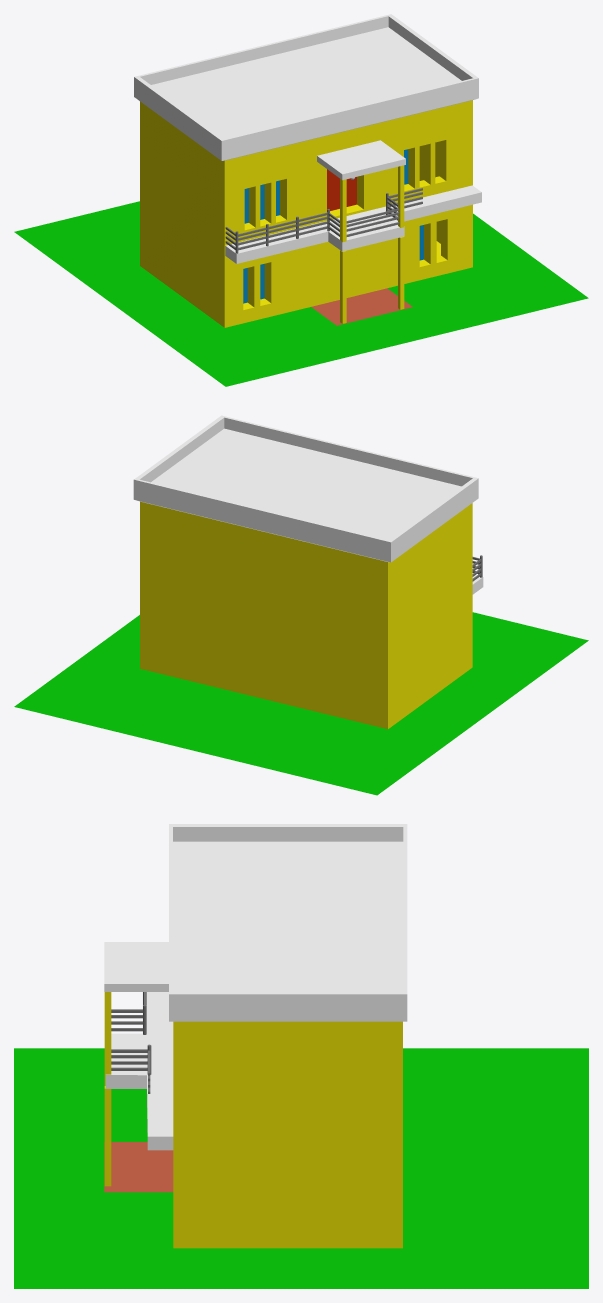
Rendered from house2_yellow.obj.
3 renders of one model, top to bottom at view 1: azimuth 30°, elevation 25°; view 2: azimuth 150°, elevation 25°; view 3: azimuth 270°, elevation 25°, orthographic. The views are drawn at different scales.
Parts seen in each view (by area): view 1: Cube.166_Cube.256, Plane.033_Plane.034, Cube.104_Cube.195, Cube.154_Cube.244, Cube.102_Cube.193, Cube.165_Cube.255, Cube.100_Cube.191, Cube.101_Cube.192; view 2: Cube.166_Cube.256, Plane.033_Plane.034; view 3: Cube.166_Cube.256, Plane.033_Plane.034, Cube.104_Cube.195, Cube.154_Cube.244, Cube.101_Cube.192, Cube.102_Cube.193.
Part boxes in pixels (x1,y1,x2,y2): Cube.166_Cube.256: [134, 14, 478, 327]; Plane.033_Plane.034: [14, 201, 588, 386]; Cube.104_Cube.195: [225, 185, 481, 263]; Cube.154_Cube.244: [311, 288, 412, 325]; Cube.102_Cube.193: [340, 165, 404, 242]; Cube.165_Cube.255: [327, 169, 356, 211]; Cube.100_Cube.191: [340, 250, 346, 323]; Cube.101_Cube.192: [398, 236, 404, 309]; Cube.166_Cube.256: [133, 415, 478, 729]; Plane.033_Plane.034: [14, 612, 588, 795]; Cube.166_Cube.256: [104, 824, 407, 1248]; Plane.033_Plane.034: [14, 1048, 588, 1288]; Cube.104_Cube.195: [105, 992, 173, 1150]; Cube.154_Cube.244: [104, 1142, 173, 1192]; Cube.101_Cube.192: [104, 1086, 111, 1186]; Cube.102_Cube.193: [104, 992, 111, 1075].
Size of the model in its own units: 21.52 by 10.82 by 21.73.
